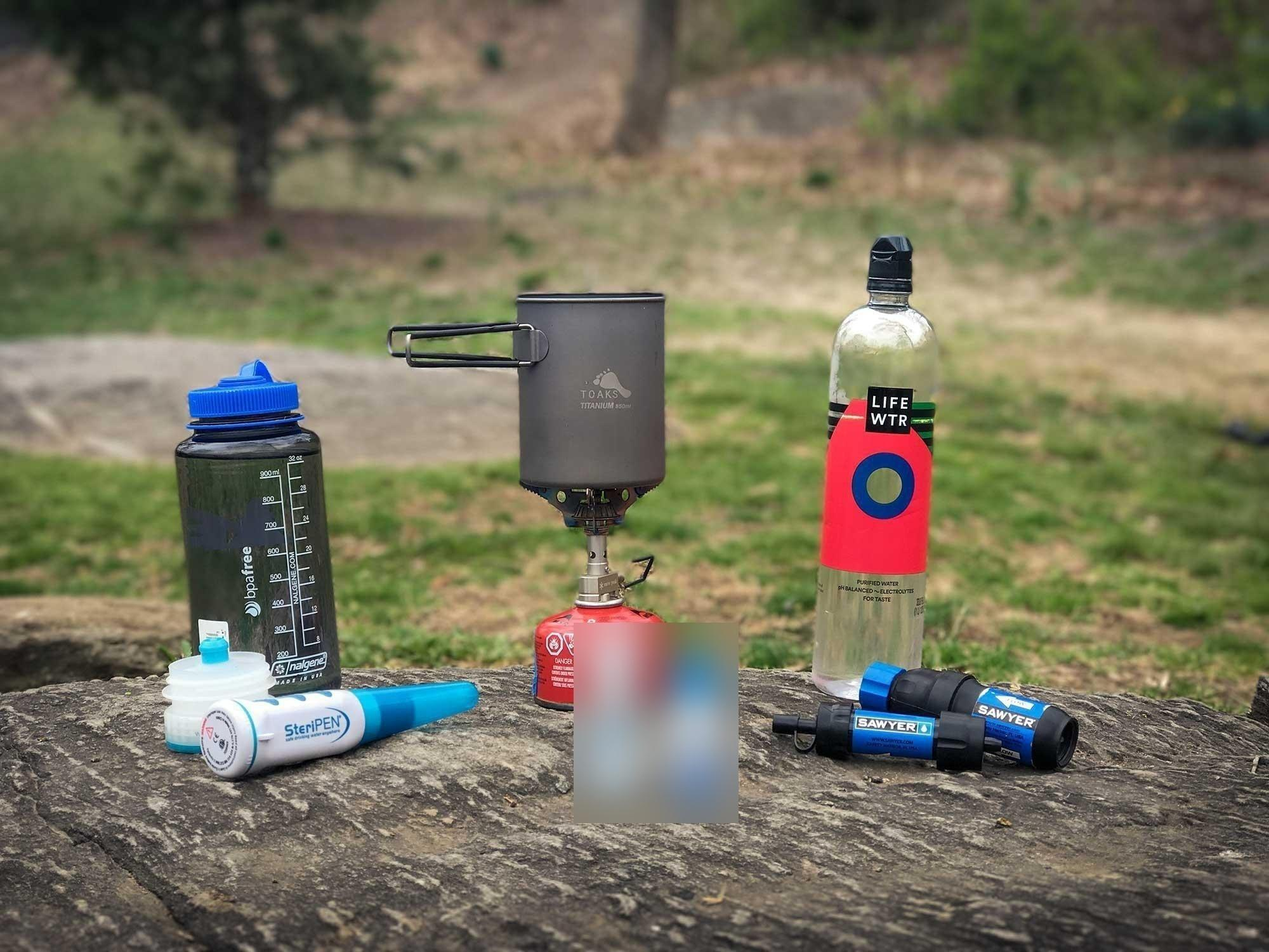bottle-glass: (806, 232, 943, 700)
gym bottle: (171, 357, 346, 687)
